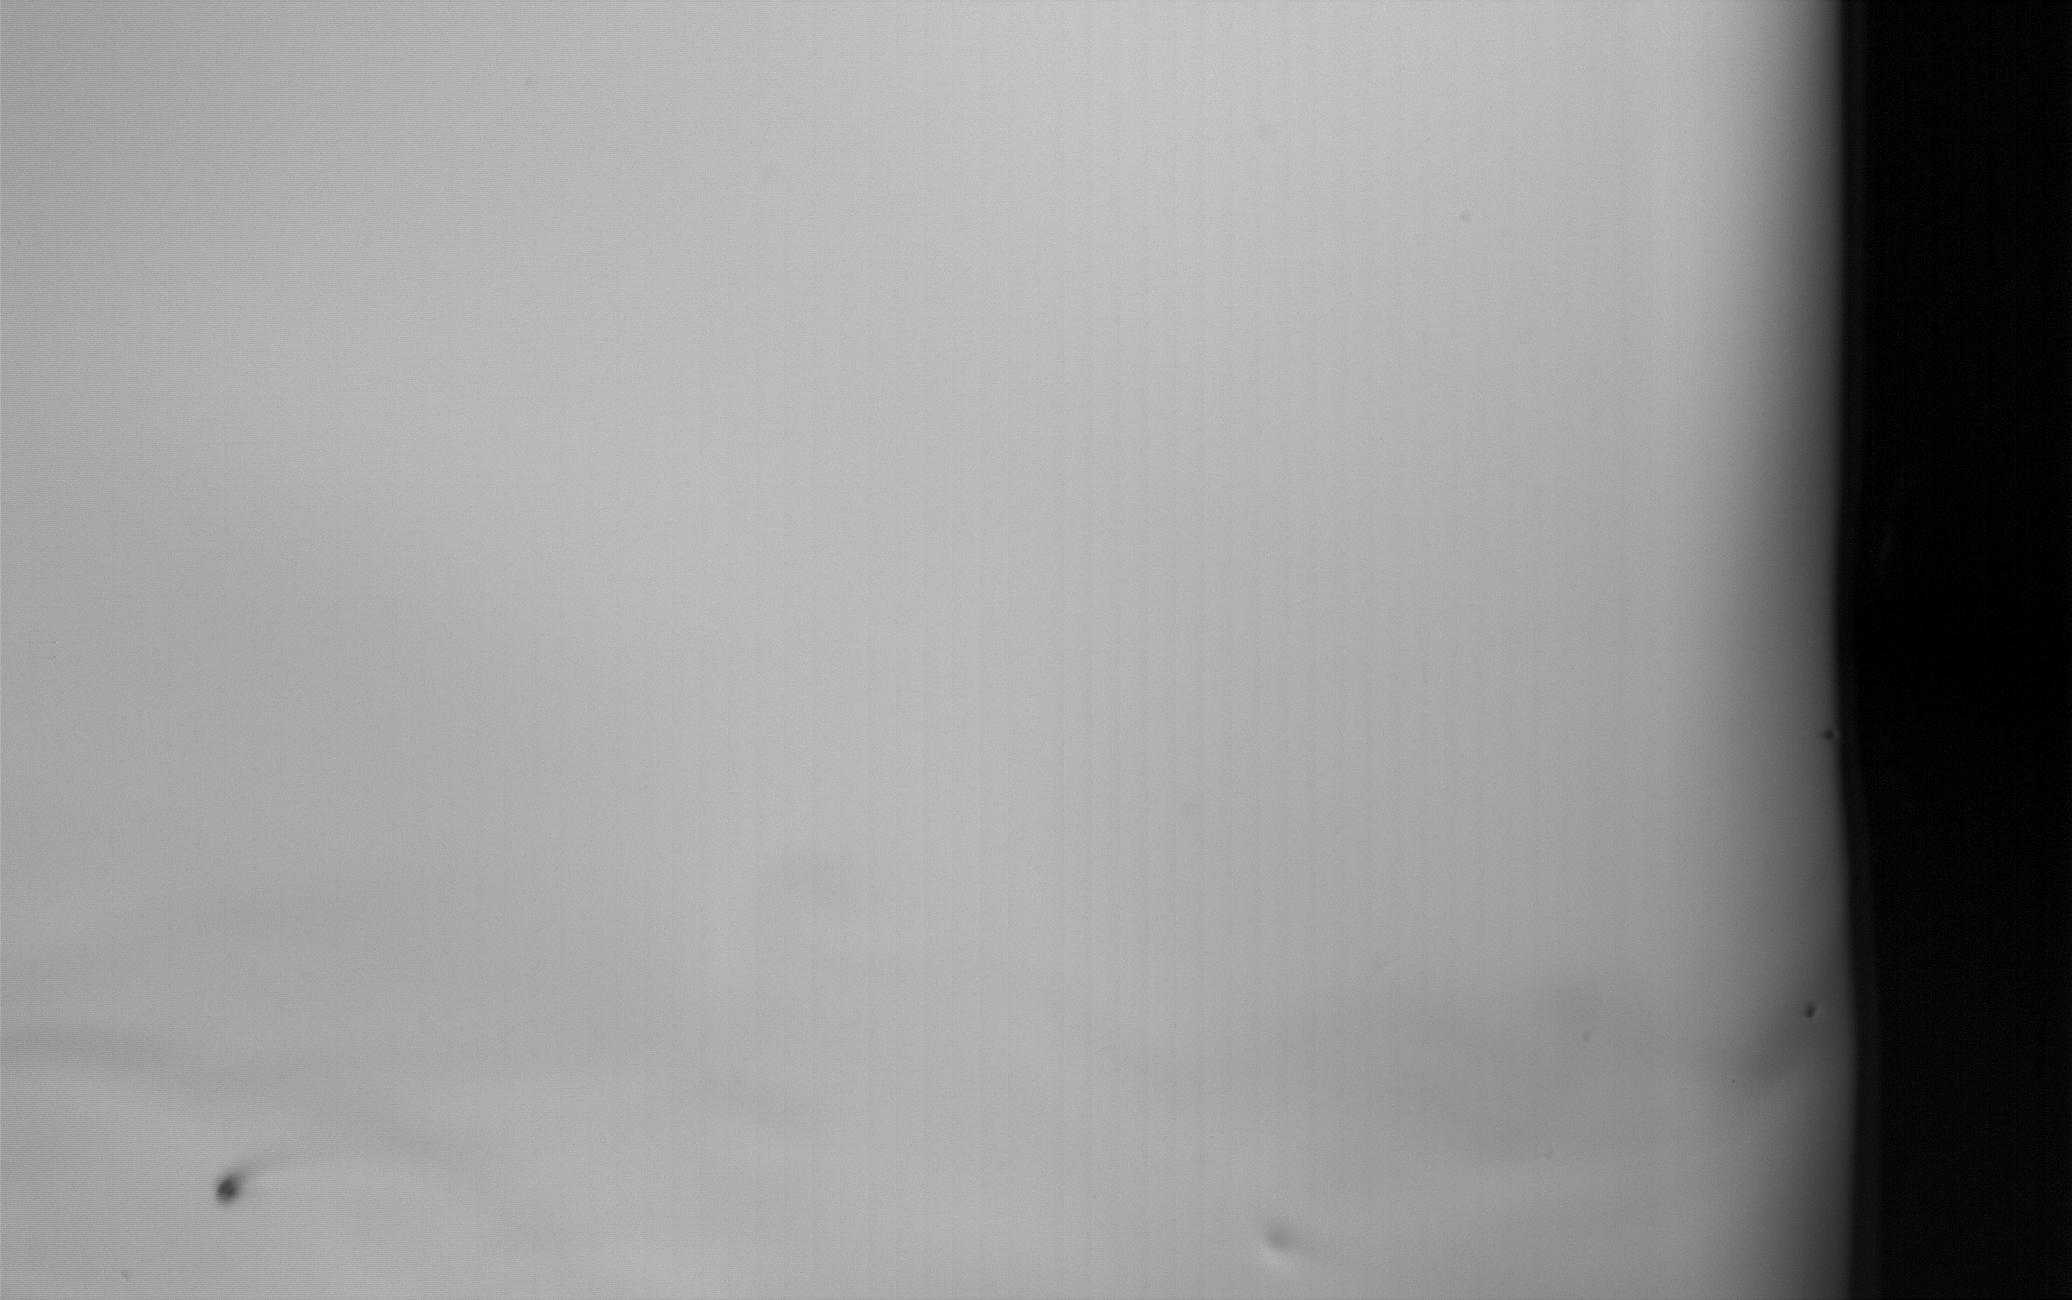Blurry: (1259, 1228, 1299, 1263)
ClassicalEvaporation: (210, 1173, 244, 1212), (1817, 723, 1838, 744), (1803, 1006, 1822, 1027)
